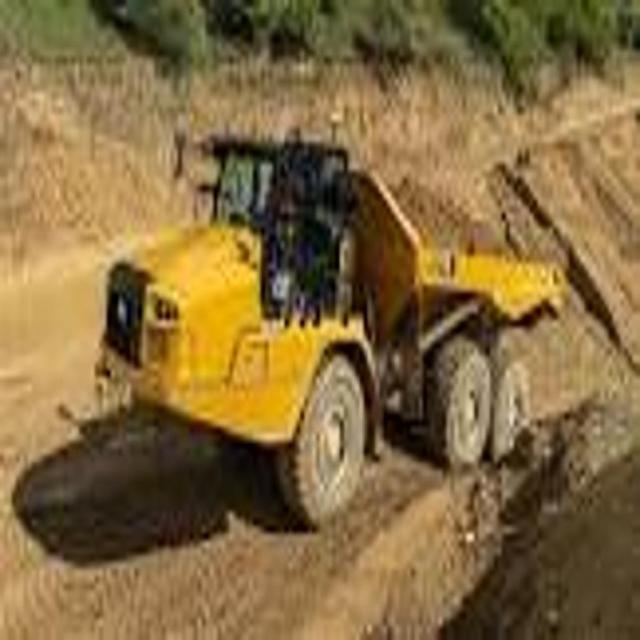dump_truck: (98, 115, 568, 529)
